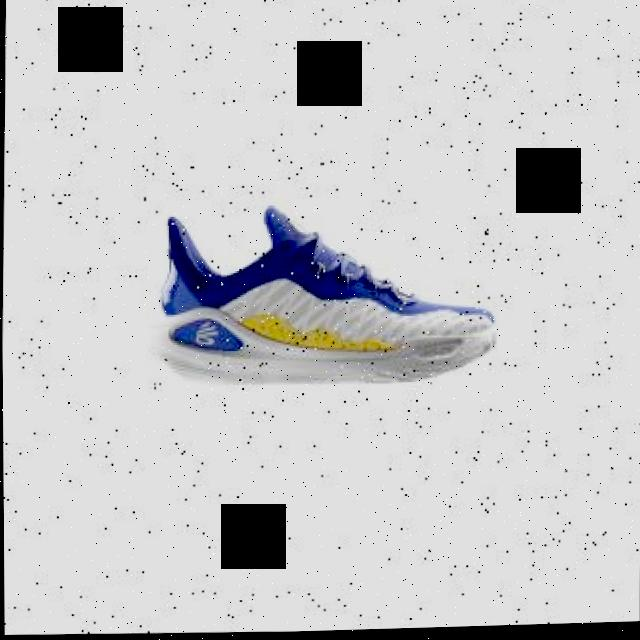shoe: (148, 200, 498, 393)
